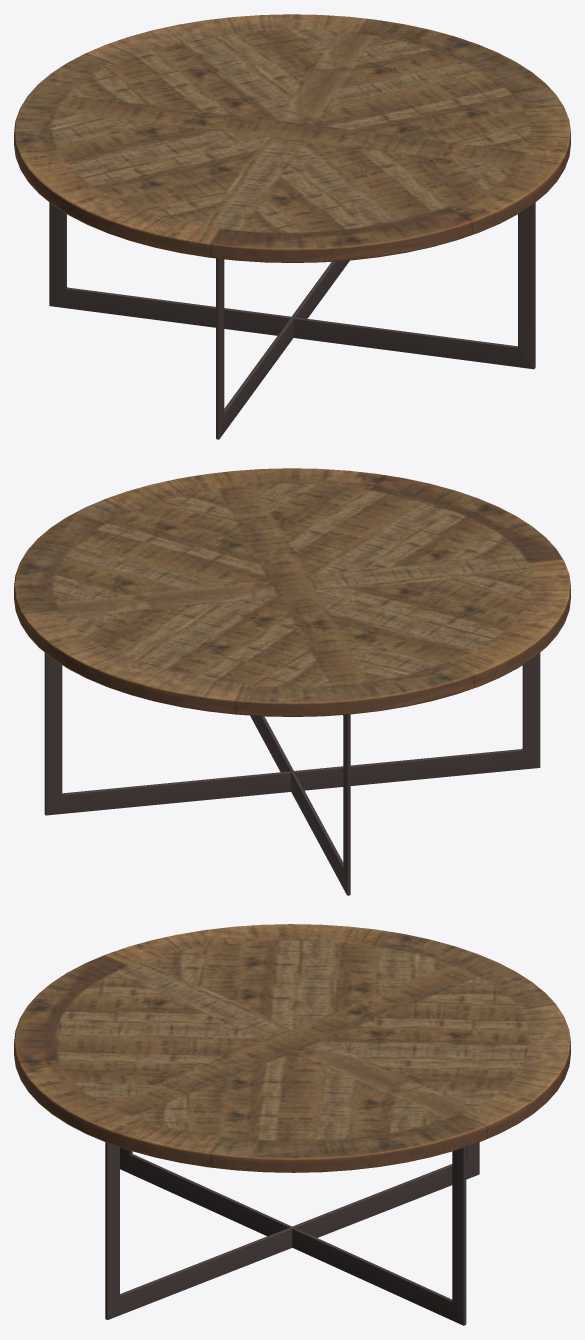
File: B07HSG8DPR.glb
3 views of the same model, one above another, from view 1: azimuth 30°, elevation 25°; view 2: azimuth 150°, elevation 25°; view 3: azimuth 270°, elevation 25° (orthographic).
Visible parts, largest first — view 1: RootNode; view 2: RootNode; view 3: RootNode.
Boxes of the visible parts, x1,y1,x2,y2 form: RootNode: [14, 14, 570, 439]; RootNode: [14, 468, 570, 895]; RootNode: [14, 924, 570, 1325].
Bounding box in the file's own units: 1.26 × 0.5157 × 1.26.
Materials: 1 (1 with a texture image).
